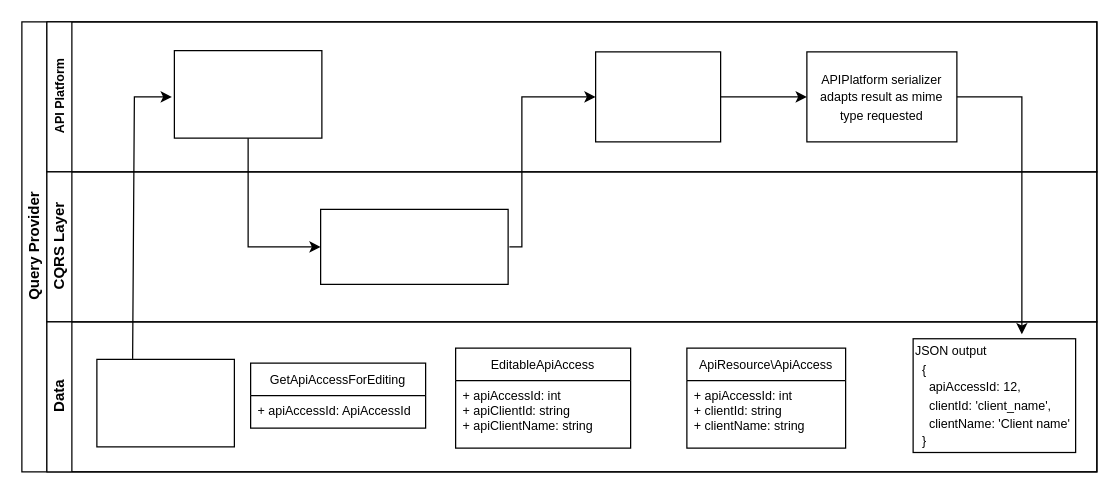
Some shapes in this 1119 by 494 pixel diagram are drawn without their labels. Each missing label, with the centre of its shape:
Construct query DTO by matching parameter names: point (247, 93)
GetApiAccessForEditingHandler Handle query and returns QueryResult DTO: point (413, 246)
Query parameters: [ 'apiAccessId' => 42 ]: point (165, 402)
Serializes query result object into ApiResource DTO: point (657, 96)
